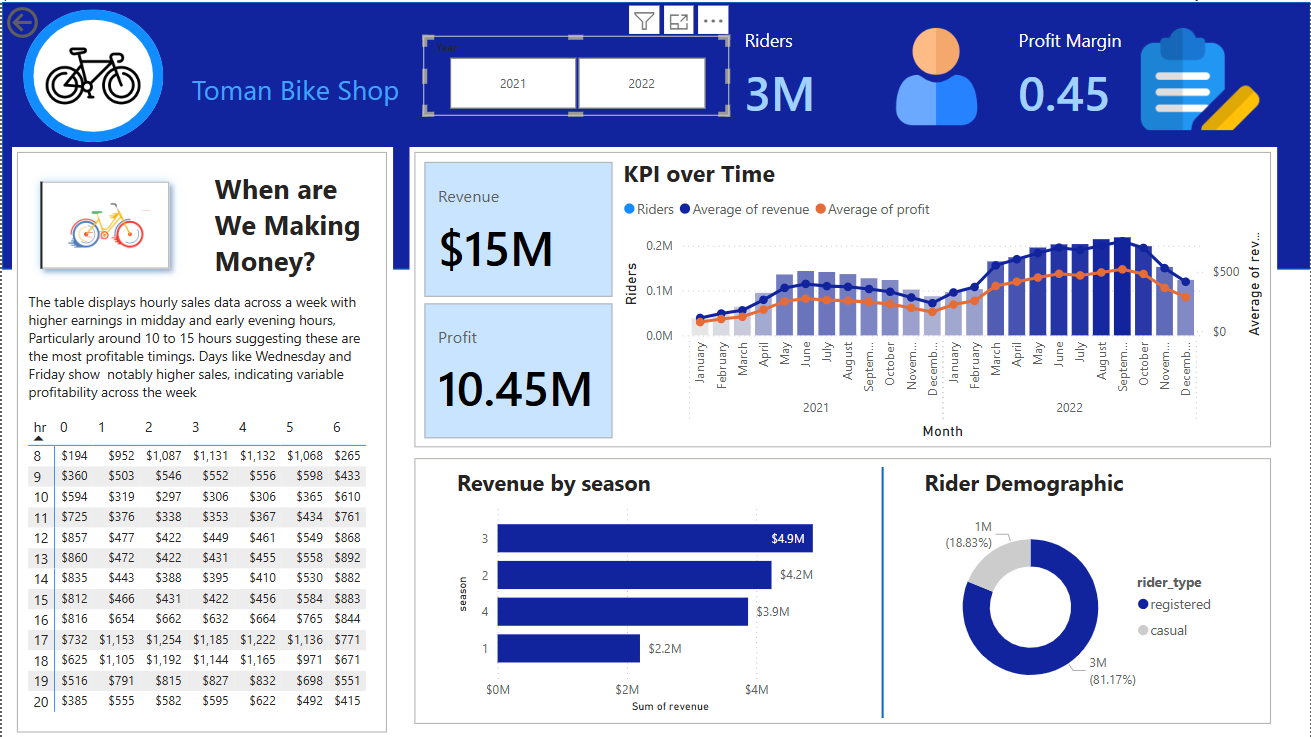

Layout of this report page (visuals, bound fields, positions):
{"tool":"powerbi","page":{"name":"Page 1","canvas":[1280,720],"ordinal":0},"visuals":[{"type":"shape","box":[0,0,1280.3,261.7],"z":0},{"type":"cardVisual","fields":{"Data":["Min(Query1.rider_type)"]},"box":[398.6,441.4,848.6,270.2],"z":1000},{"type":"cardVisual","fields":{"Data":["Min(Query1.rider_type)"]},"box":[398.6,141.8,848.6,299.6],"z":2000},{"type":"cardVisual","fields":{"Data":["Min(Query1.rider_type)"]},"box":[9.8,141.8,373,578.4],"z":3000},{"type":"actionButton","box":[0,0,100,40],"z":4000},{"type":"pivotTable","fields":{"Values":["Avg(Query1.revenue)"],"Columns":["Query1.weekday"],"Rows":["Query1.hr"]},"box":[20.6,399.3,343.1,300.5],"z":5000},{"type":"cardVisual","fields":{"Data":["Min(Query1.rider_type)"]},"box":[20.8,159,160.2,119.8],"z":6000},{"type":"textbox","box":[203,159,161.4,119.8],"z":7000},{"type":"textbox","box":[20.8,278.8,353.4,121.1],"z":8000},{"type":"lineClusteredColumnComboChart","title":"KPI over Time","fields":{"Category":["Query1.dteday.Variation.Date Hierarchy.Year","Query1.dteday.Variation.Date Hierarchy.Month","Query1.dteday.Variation.Date Hierarchy.Day"],"Y":["Sum(Query1.riders)"],"Y2":["Avg(Query1.revenue)","Avg(Query1.profit)"]},"box":[602.9,151.6,634.7,281.3],"z":9000},{"type":"clusteredBarChart","title":"Revenue by season","fields":{"Category":["Query1.season"],"Y":["Sum(Query1.revenue)"]},"box":[440.2,454.9,399.9,245.8],"z":10000},{"type":"donutChart","title":"Rider Demographic","fields":{"Category":["Query1.rider_type"],"Y":["Sum(Query1.riders)"]},"box":[897.6,454.9,299.6,245.8],"z":11000},{"type":"shape","box":[711.7,454.9,299.6,245.8],"z":12000},{"type":"cardVisual","title":"KPI over Time","fields":{"Data":["Sum(Query1.revenue)","Sum(Query1.profit)"]},"box":[408.4,151.6,194.4,281.3],"z":13000},{"type":"cardVisual","fields":{"Data":["Sum(Query1.riders)","Query1.Profit Margin"]},"box":[709.2,8.6,538,122.3],"z":14000},{"type":"shape","box":[20.8,7.3,137,129.6],"z":15000},{"type":"image","box":[37.9,19.6,102.7,105.2],"z":16000},{"type":"textbox","box":[181,62.4,227.4,47.7],"z":17000},{"type":"slicer","fields":{"Values":["Query1.Year"]},"box":[412.1,33,299.6,78.3],"z":18000}]}

Visuals, with their boxes in screenshot pixels (x1, y1, x2, y2), scaled from the page's 1280x720 canvas onto the 1311x737 screenshot:
shape: crop(0, 0, 1310, 268)
cardVisual - Min(Query1.rider_type): crop(408, 452, 1277, 728)
cardVisual - Min(Query1.rider_type): crop(408, 145, 1277, 452)
cardVisual - Min(Query1.rider_type): crop(10, 145, 392, 736)
actionButton: crop(0, 0, 102, 41)
pivotTable - Avg(Query1.revenue) x Query1.weekday: crop(21, 409, 373, 716)
cardVisual - Min(Query1.rider_type): crop(21, 163, 185, 285)
textbox: crop(208, 163, 373, 285)
textbox: crop(21, 285, 383, 409)
"KPI over Time" lineClusteredColumnComboChart: crop(618, 155, 1268, 443)
"Revenue by season" clusteredBarChart: crop(451, 466, 860, 717)
"Rider Demographic" donutChart: crop(919, 466, 1226, 717)
shape: crop(729, 466, 1036, 717)
"KPI over Time" cardVisual: crop(418, 155, 617, 443)
cardVisual - Sum(Query1.riders) x Query1.Profit Margin: crop(726, 9, 1277, 134)
shape: crop(21, 7, 162, 140)
image: crop(39, 20, 144, 128)
textbox: crop(185, 64, 418, 113)
slicer - Query1.Year: crop(422, 34, 729, 114)
